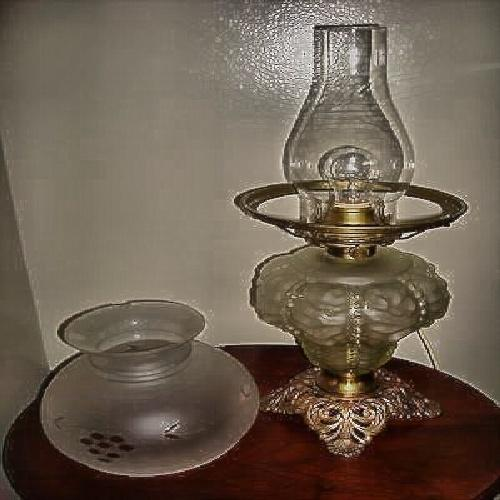table: (29, 348, 495, 490)
